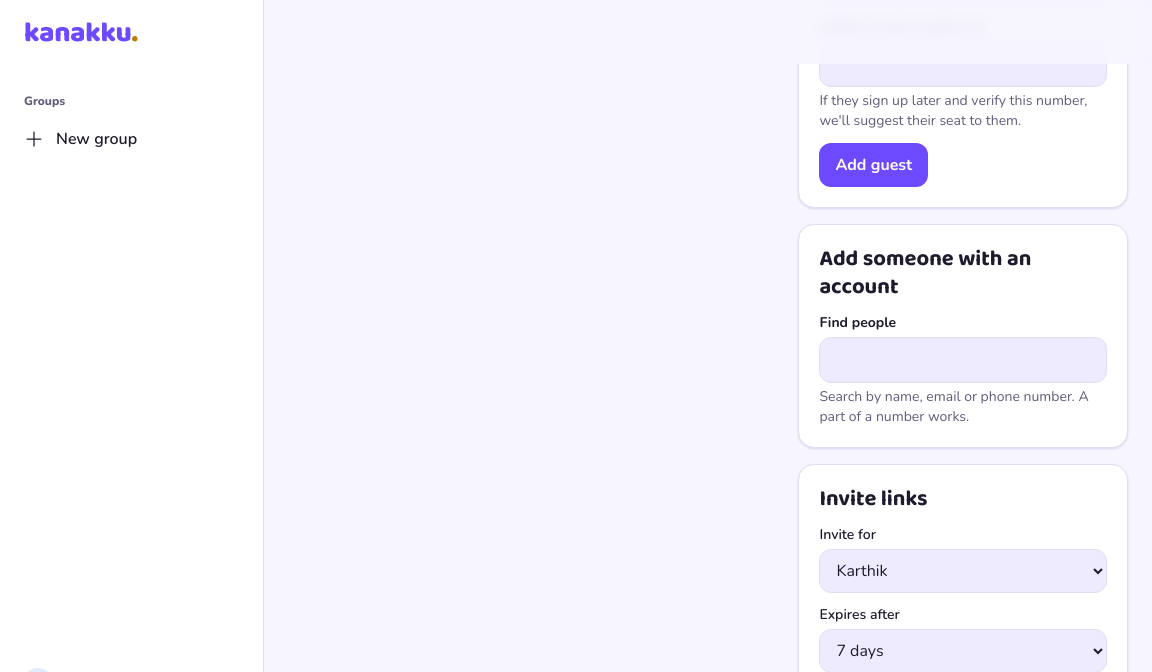
Scenario: MemberPicker › invites with a key, shows the link and adds no member
The image size is (1152, 672).
(page scrolled)
Type "tara" into the search field labelled "Find people" at (963, 360), box top-left (820, 338), bottom-right (1106, 382)
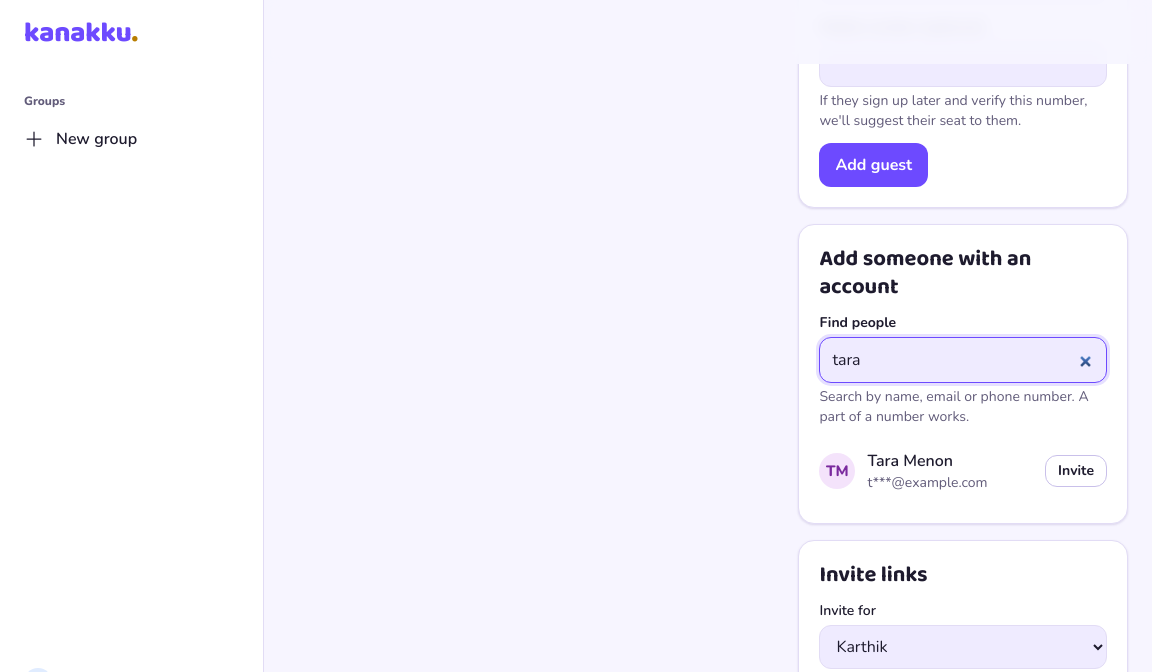
Click the button with aria-label "Invite Tara Menon" at (1076, 471), box top-left (1045, 455), bottom-right (1107, 487)
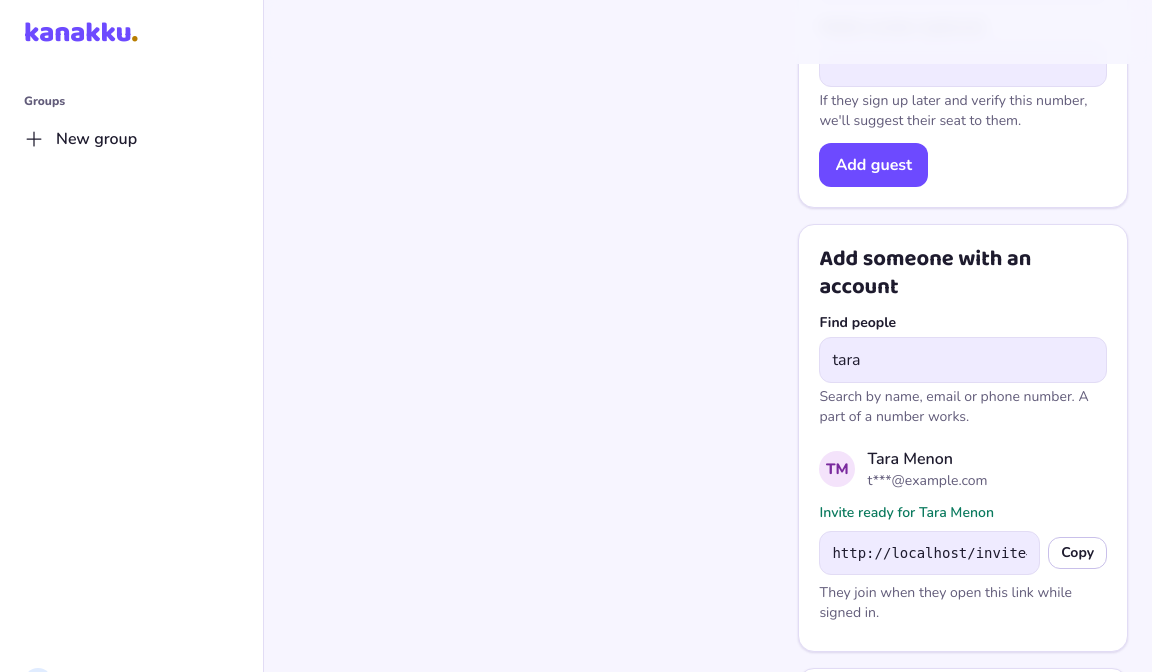
expect the text "Invite ready for Tara Menon" is shown: met, box top-left (819, 503), bottom-right (994, 522)
